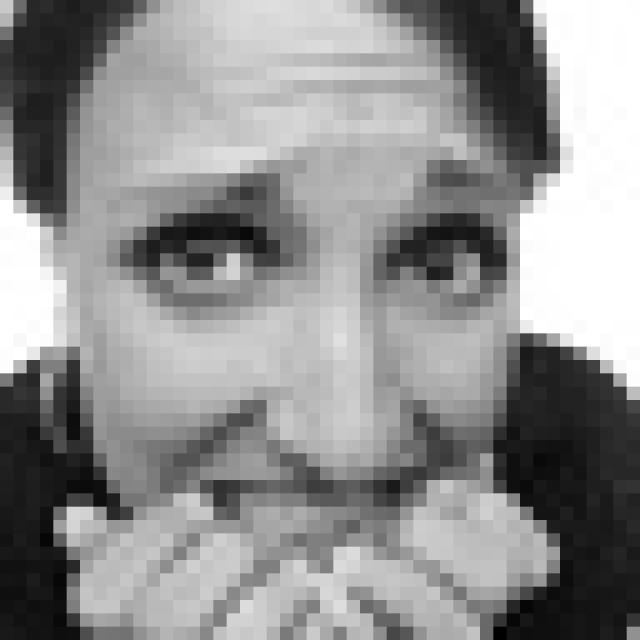fear: (112, 128, 514, 590)
